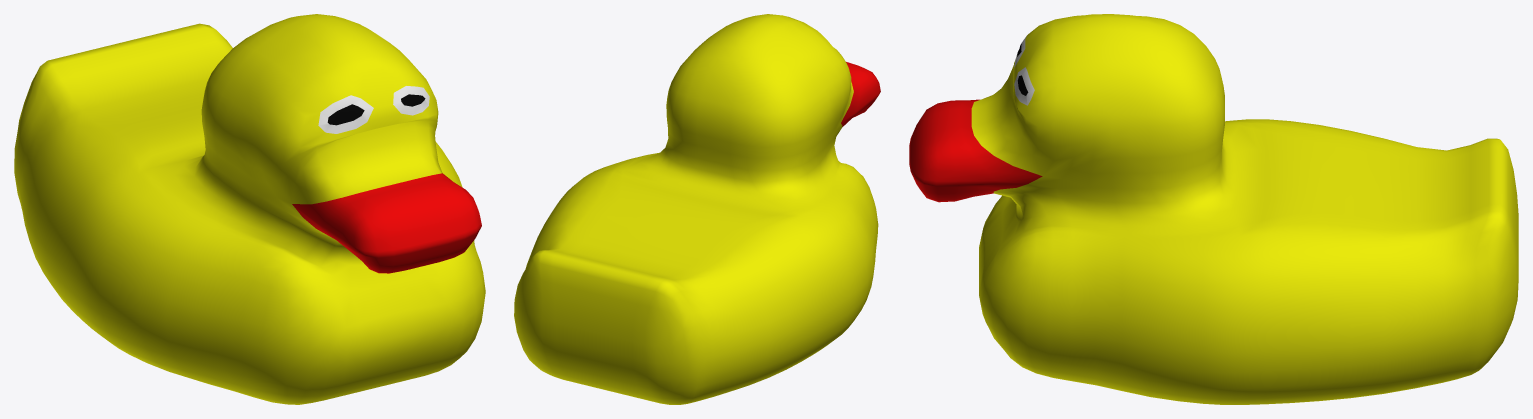
The model's file is RubberDuck.fbx.
3 views of the same model, side by side, from view 1: azimuth 30°, elevation 25°; view 2: azimuth 150°, elevation 25°; view 3: azimuth 270°, elevation 25° (orthographic). The views are drawn at different scales.
Visible parts, largest first — view 1: pCube2; view 2: pCube2; view 3: pCube2.
Boxes of the visible parts, <box> form: pCube2: <box>14,14,485,404</box>; pCube2: <box>514,14,880,404</box>; pCube2: <box>909,14,1518,404</box>.
Size of the model in its own units: 4.83 by 4.3 by 7.24.
